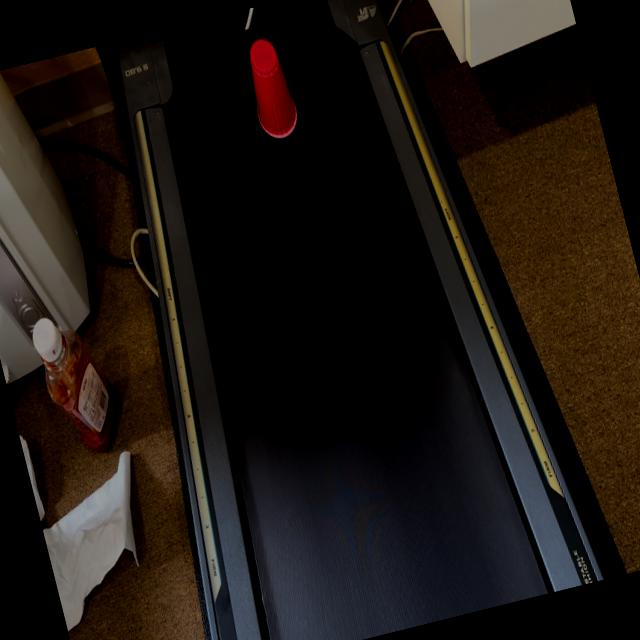Recycle: (237, 32, 303, 142)
